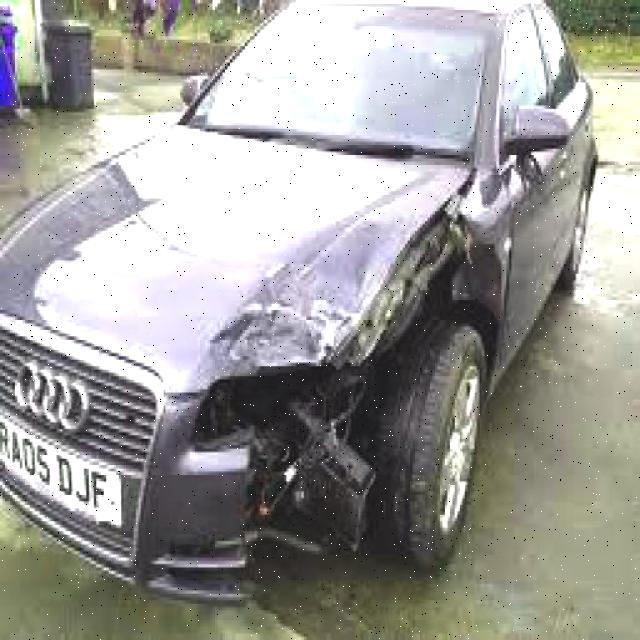car damage: (193, 184, 518, 607)
